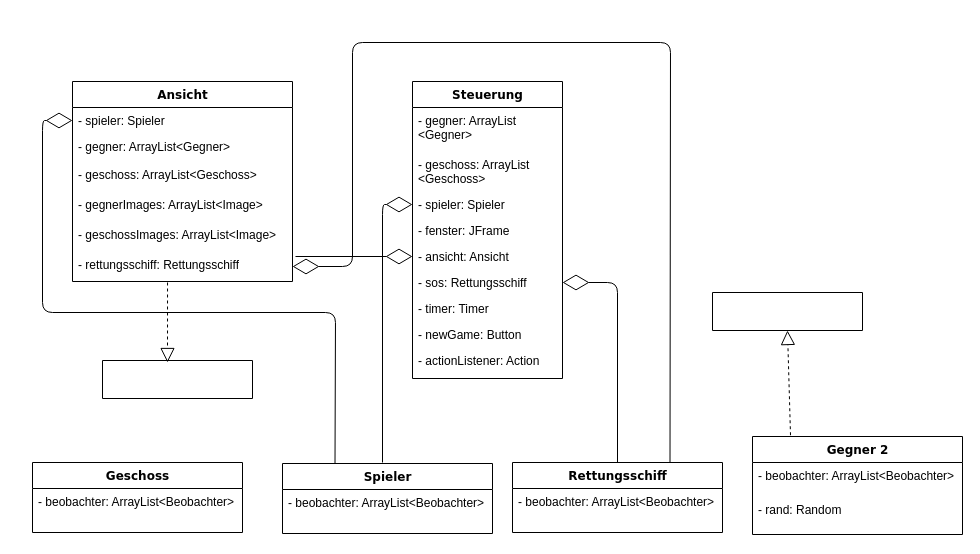
This 980x554 diagram has some shape labels left out. Each missing label, with the centre of its shape:
<< interface>> Gegner: point 787,311
<<interface >> Beobachter: point 177,379
